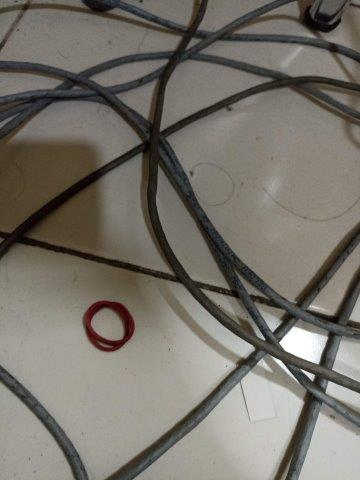karet: (82, 299, 136, 353)
